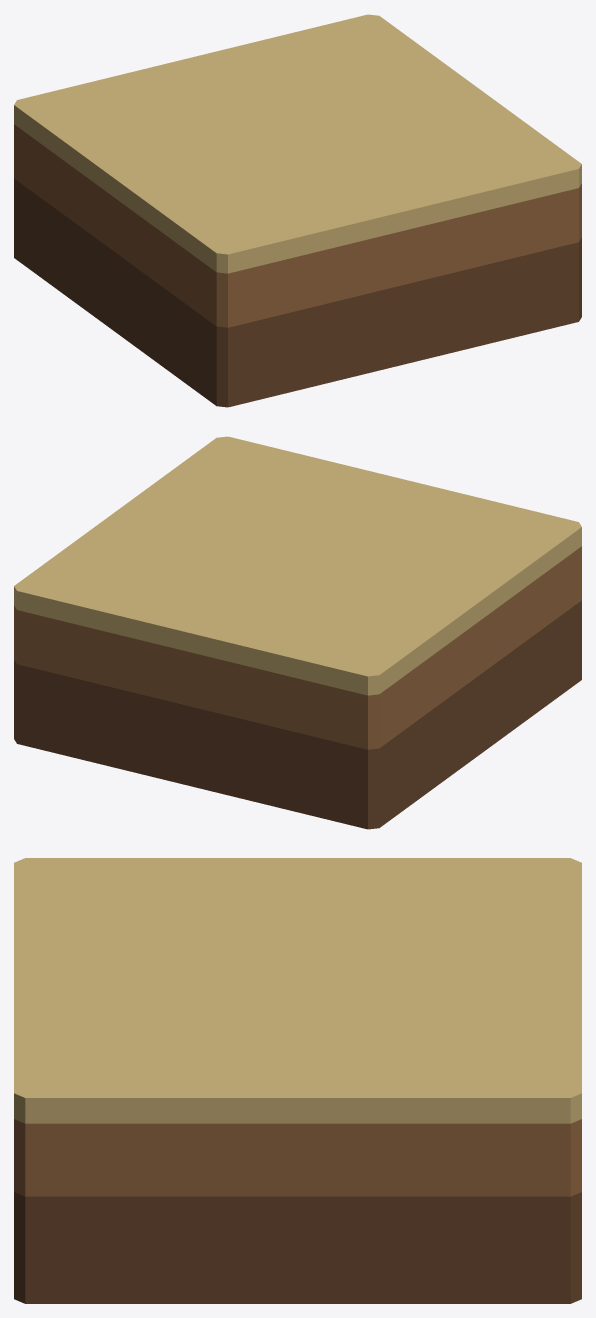
The model's file is ground_sand.glb.
The picture shows the model from 3 angles, top to bottom: view 1: azimuth 30°, elevation 25°; view 2: azimuth 150°, elevation 25°; view 3: azimuth 270°, elevation 25°; orthographic projection. The views are drawn at different scales.
Parts seen in each view (by area): view 1: ground_sand; view 2: ground_sand; view 3: ground_sand.
Boxes of the visible parts, left/top/right/bottom form: ground_sand: left=14, top=14, right=581, bottom=407; ground_sand: left=14, top=436, right=581, bottom=829; ground_sand: left=14, top=858, right=581, bottom=1303.
Size of the model in its own units: 6 by 2.4 by 6.
